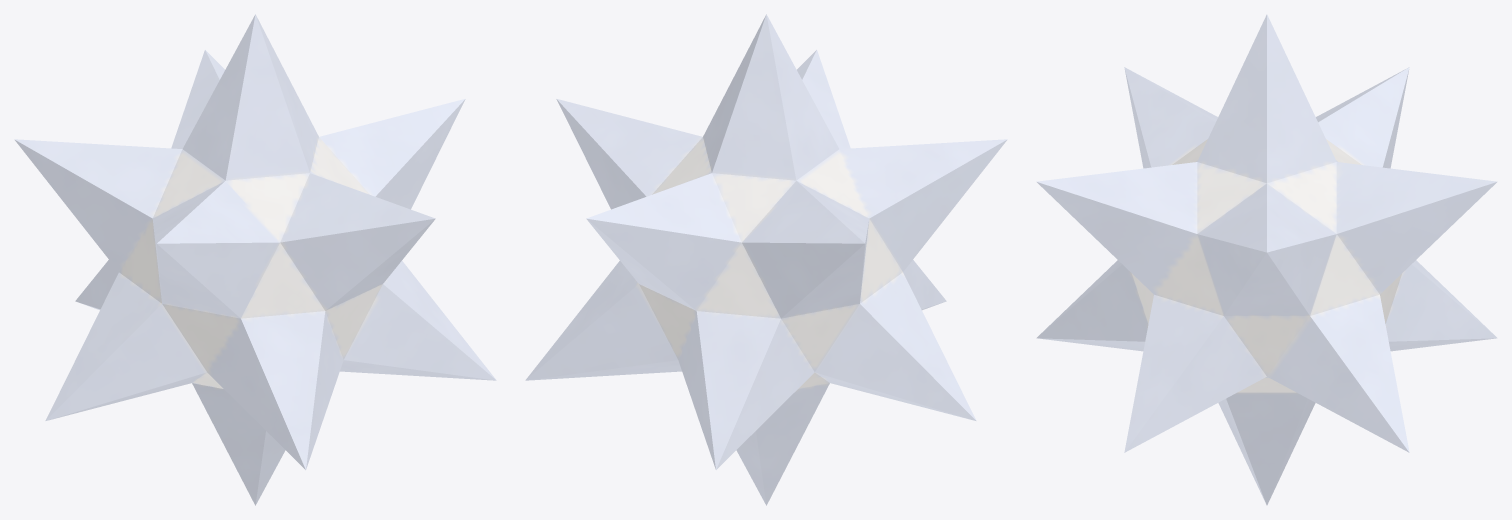
The model's file is star-bridge.glb.
3 renders of one model, left to right at view 1: azimuth 30°, elevation 25°; view 2: azimuth 150°, elevation 25°; view 3: azimuth 270°, elevation 25°, orthographic.
Visible parts, largest first — view 1: Star_Bridge; view 2: Star_Bridge; view 3: Star_Bridge.
Part boxes in pixels (x1=…): Star_Bridge: x1=14, y1=14, x2=496, y2=505; Star_Bridge: x1=525, y1=14, x2=1007, y2=505; Star_Bridge: x1=1036, y1=14, x2=1497, y2=505.
Size of the model in its own units: 3.13 by 3.5 by 2.98.
Materials: 1 (1 with a texture image).
